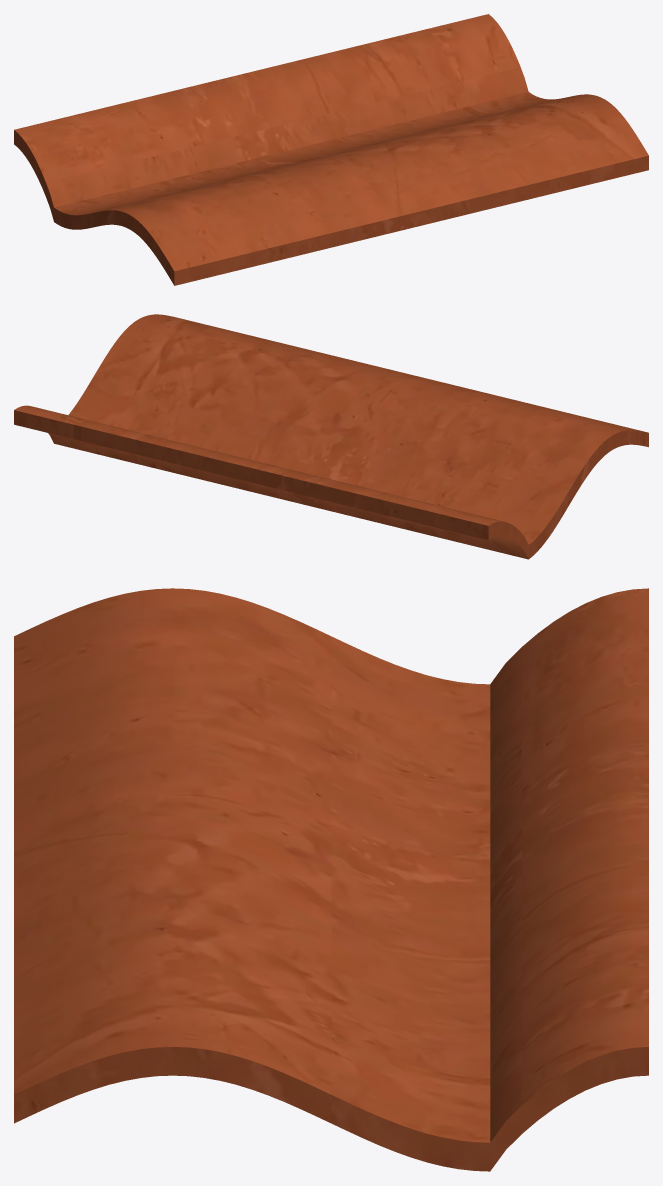
The model's file is COB-CER-002.glb.
3 views of the same model, one above another, from view 1: azimuth 30°, elevation 25°; view 2: azimuth 150°, elevation 25°; view 3: azimuth 270°, elevation 25° (orthographic). The views are drawn at different scales.
Parts seen in each view (by area): view 1: COB-CER-002_telha; view 2: COB-CER-002_telha; view 3: COB-CER-002_telha.
Part boxes in pixels (bbox=[...]): COB-CER-002_telha: bbox=[14, 14, 648, 285]; COB-CER-002_telha: bbox=[14, 314, 648, 559]; COB-CER-002_telha: bbox=[14, 588, 648, 1171].
Size of the model in its own units: 0.41 by 0.052 by 0.24.
Materials: 1 (1 with a texture image).
